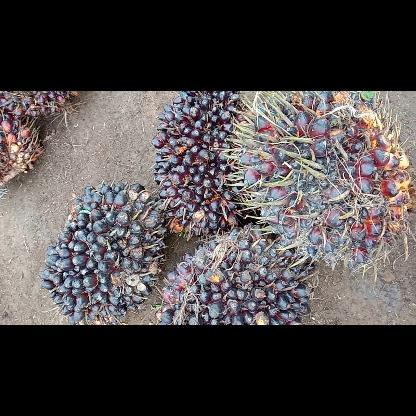TBS mentah: (227, 90, 415, 272), (38, 180, 170, 324), (148, 91, 266, 242), (150, 218, 318, 324)
